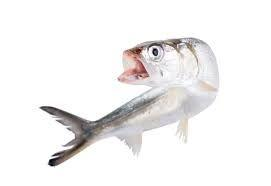Tenpounder: (33, 31, 233, 166)
